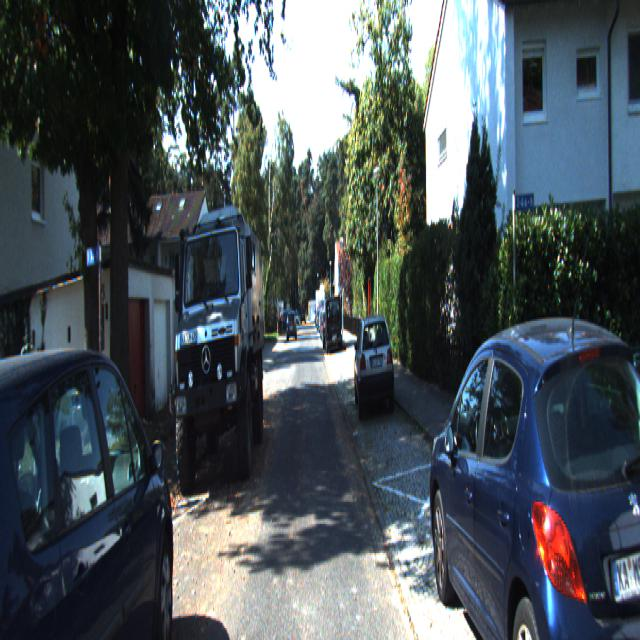Car: (426, 311, 640, 638), (0, 327, 180, 639), (175, 205, 265, 490), (352, 309, 396, 418), (324, 294, 342, 352), (286, 310, 297, 340)
